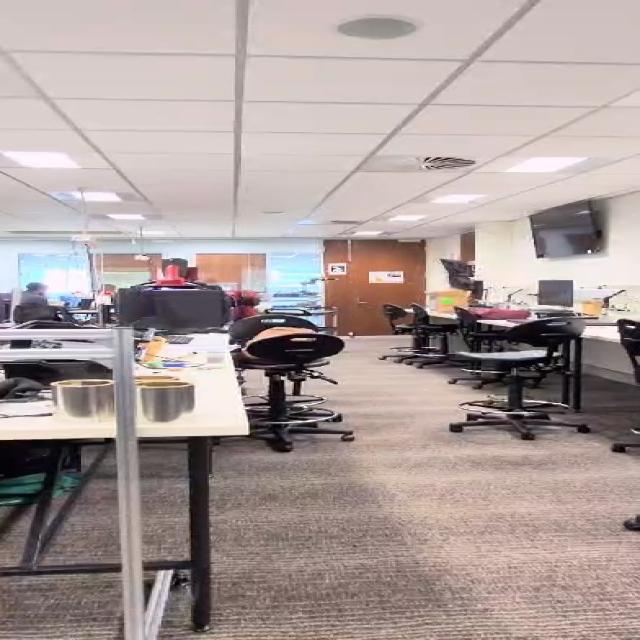doorhandle: (351, 240, 427, 334), (358, 301, 369, 304)
